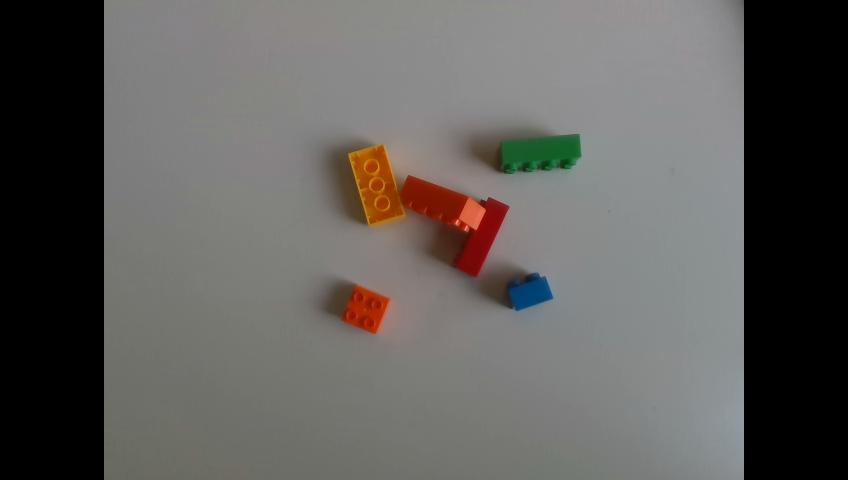2x2_blue: (510, 273, 553, 309)
2x2_orange: (343, 285, 390, 332)
4x2_green: (504, 132, 581, 173)
4x2_orange: (402, 177, 486, 233)
4x2_red: (452, 195, 508, 275)
4x2_yellow: (348, 143, 404, 225)
